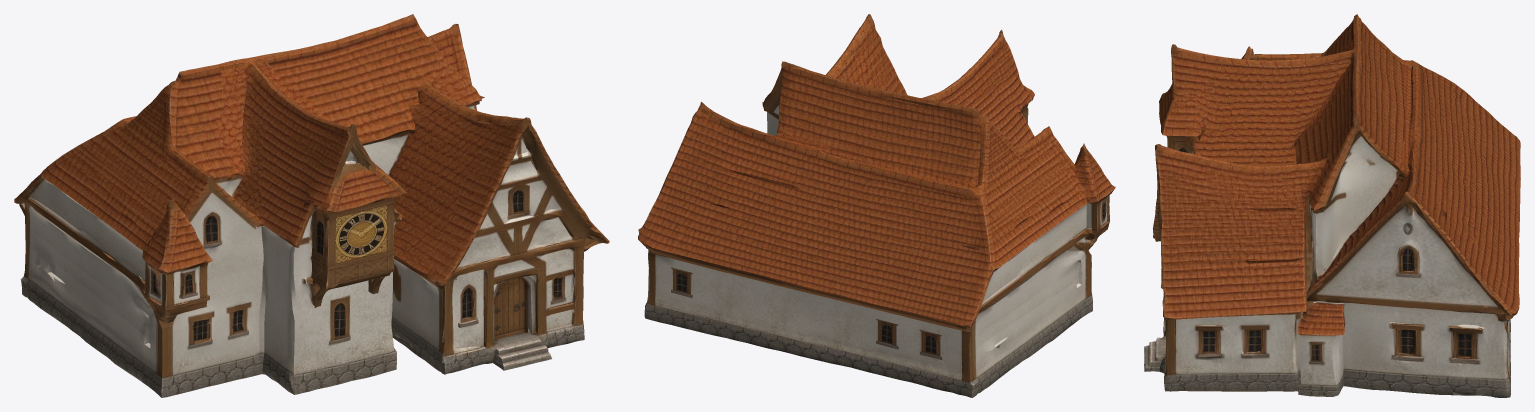
The model's file is Village (poi_town).glb.
3 renders of one model, left to right at view 1: azimuth 30°, elevation 25°; view 2: azimuth 150°, elevation 25°; view 3: azimuth 270°, elevation 25°, orthographic. The views are drawn at different scales.
Visible parts, largest first — view 1: Mesh_0; view 2: Mesh_0; view 3: Mesh_0.
Boxes of the visible parts, box(x1,y1,x2,y2) form: Mesh_0: box(14, 14, 609, 397); Mesh_0: box(638, 14, 1115, 397); Mesh_0: box(1144, 14, 1520, 397).
Size of the model in its own units: 1.88 by 1.16 by 1.6.
1 material, 1 textured.
